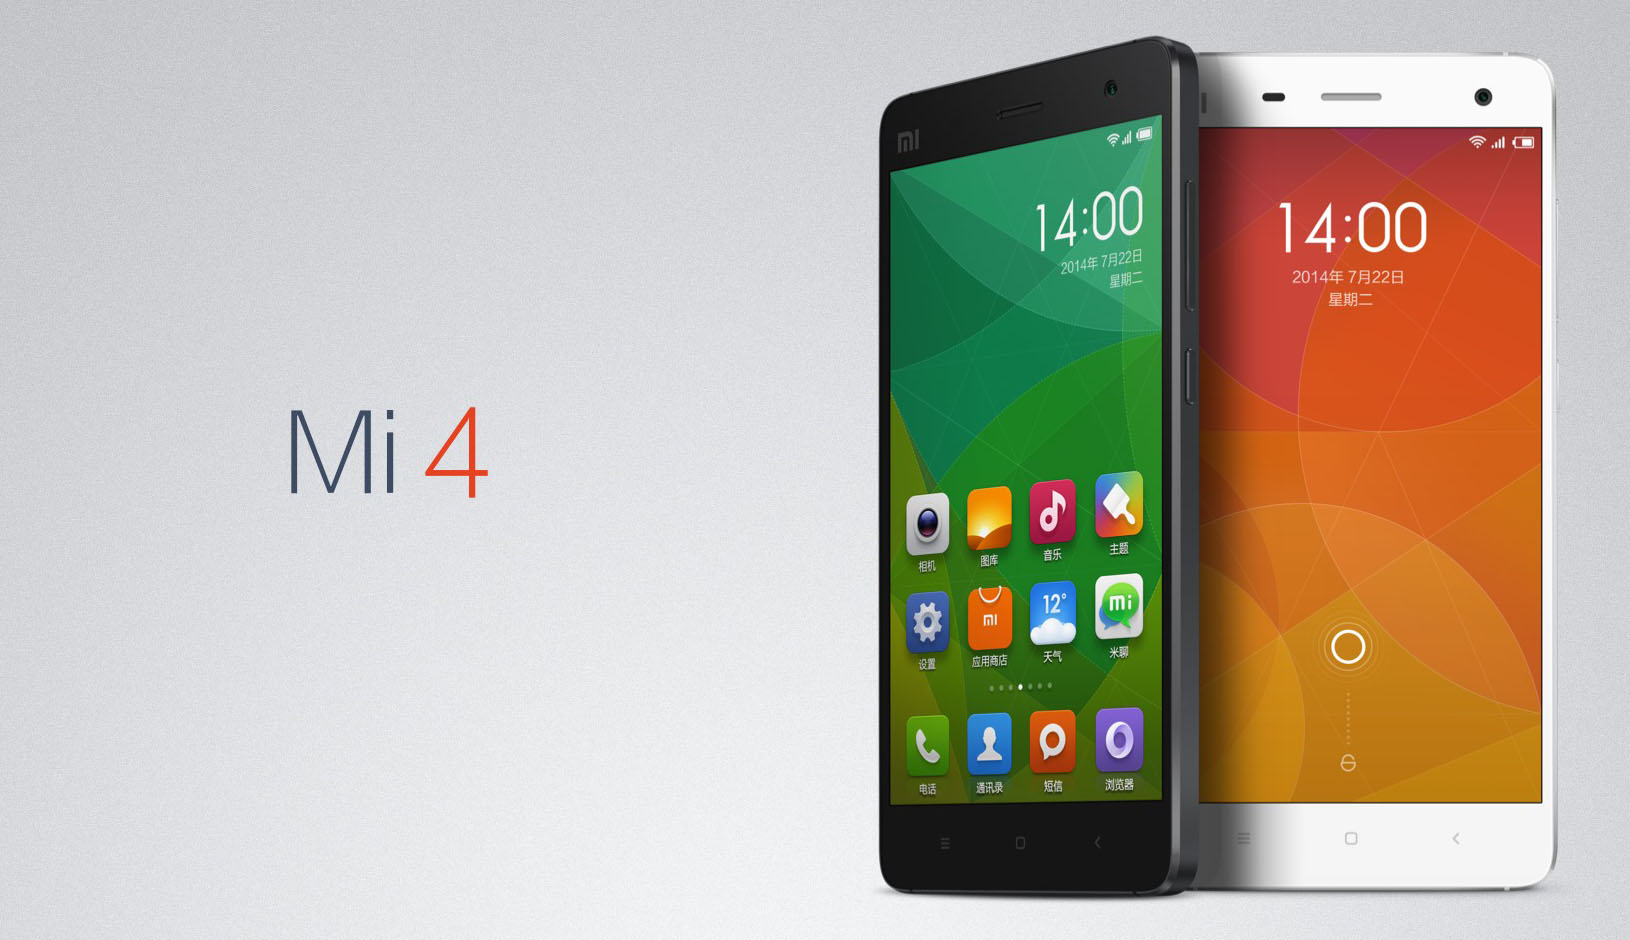smartphone: (1196, 46, 1561, 891), (875, 35, 1202, 899)
